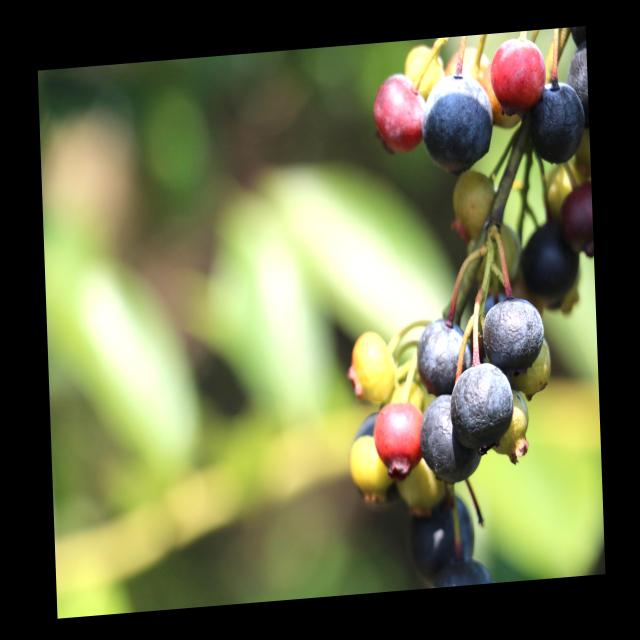blueberry: (416, 71, 500, 177), (447, 360, 519, 450), (418, 392, 487, 482), (524, 73, 587, 165), (519, 216, 584, 304), (408, 494, 480, 572), (408, 314, 472, 397), (480, 296, 546, 376)
blueberry-halfripe: (368, 75, 426, 157), (490, 38, 546, 115), (370, 396, 424, 474)
blueberry-unripe: (350, 331, 394, 403), (450, 170, 494, 235), (347, 434, 394, 494)
